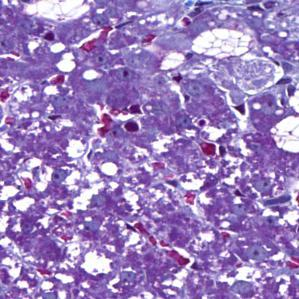ballooning: (188, 25, 253, 63), (16, 3, 95, 26), (265, 113, 296, 156)
